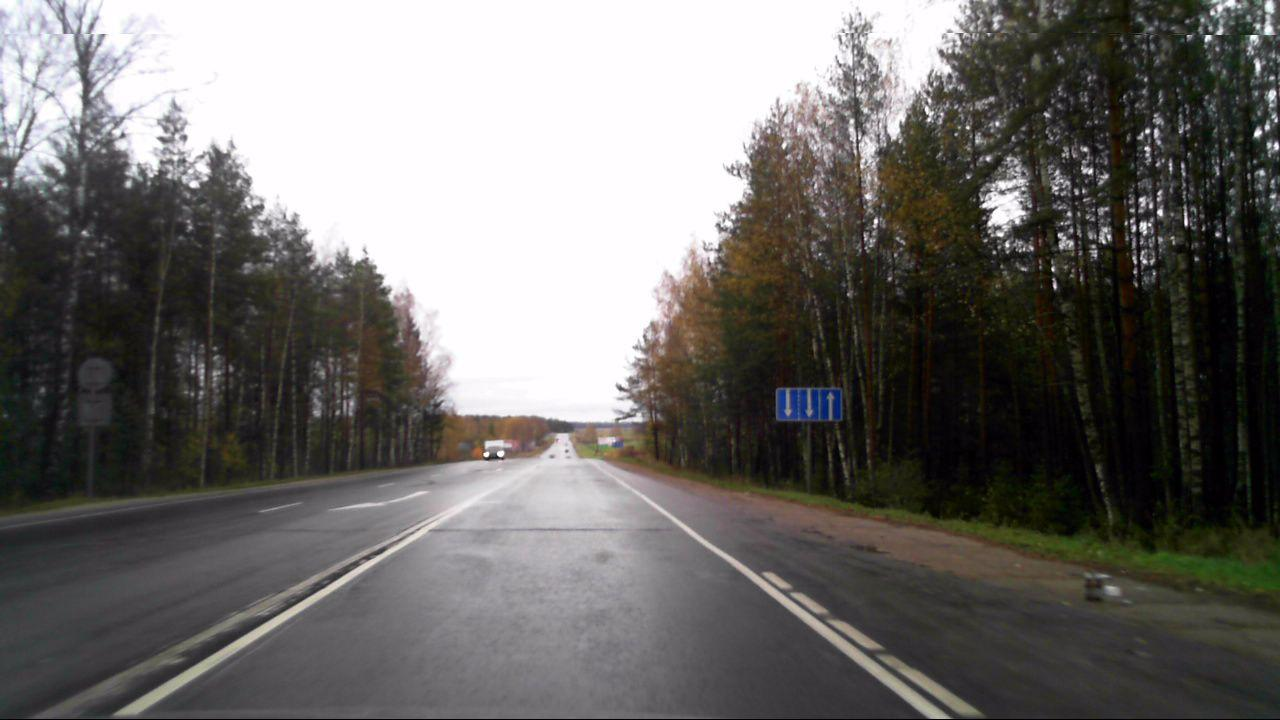5_15_7: (775, 386, 844, 421)
